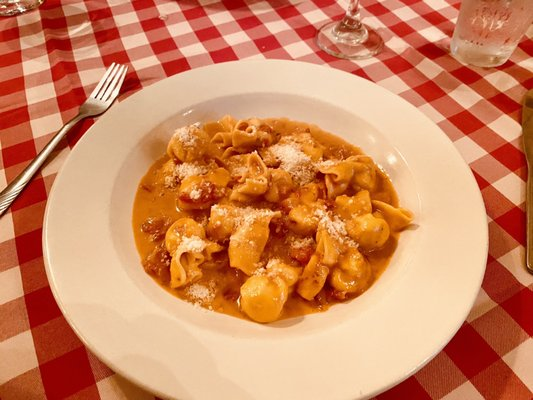pizza: (449, 0, 533, 68)
